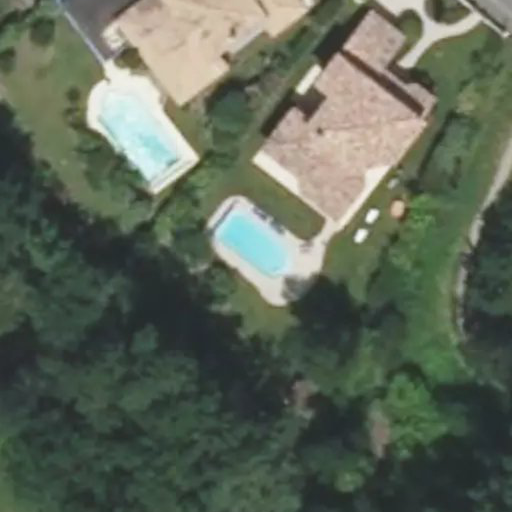pool: (214, 234, 306, 256)
